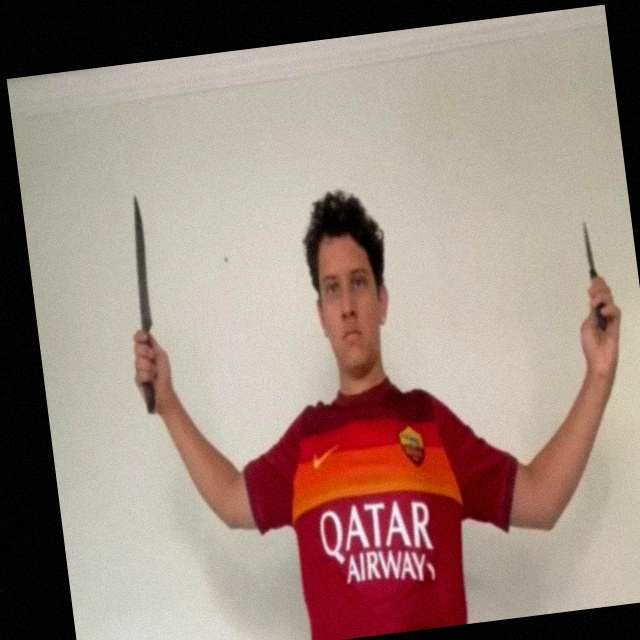Sharp-Object: (126, 193, 156, 332), (581, 221, 597, 271)
